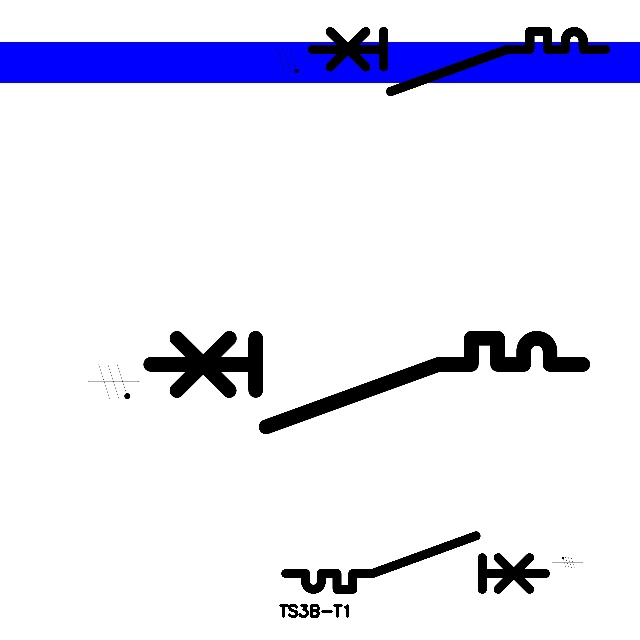interruptor_termomagnetico: (139, 327, 594, 438), (304, 24, 612, 99), (279, 529, 552, 596)
